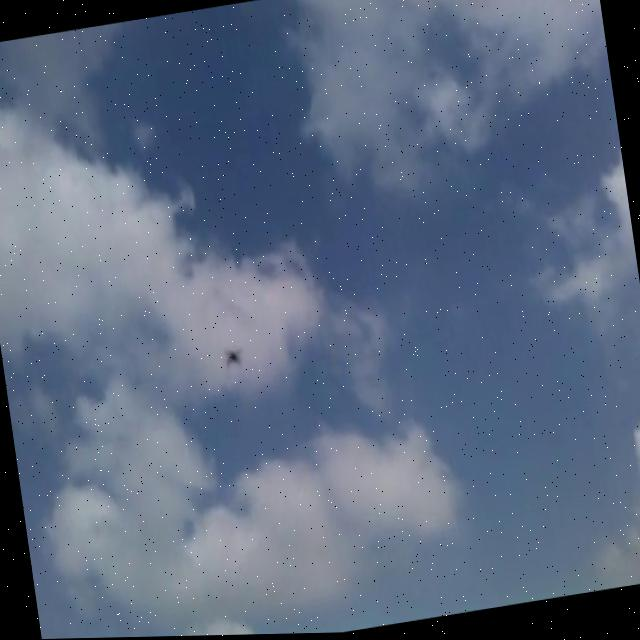drone: (218, 341, 245, 371)
